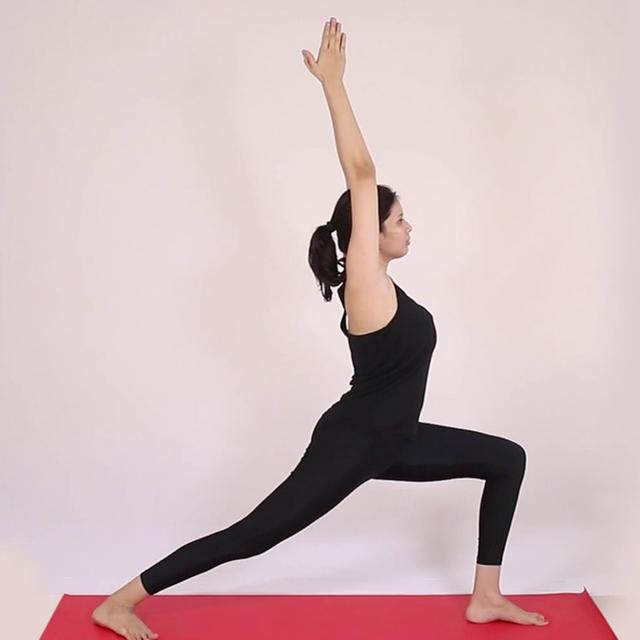Warrior_I: (91, 9, 554, 640)
